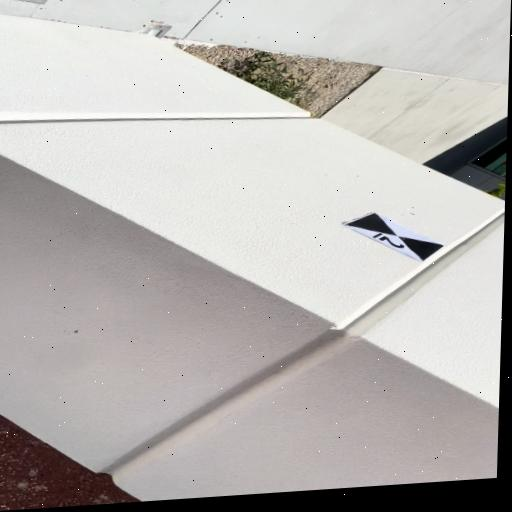target2: (338, 212, 446, 262)
